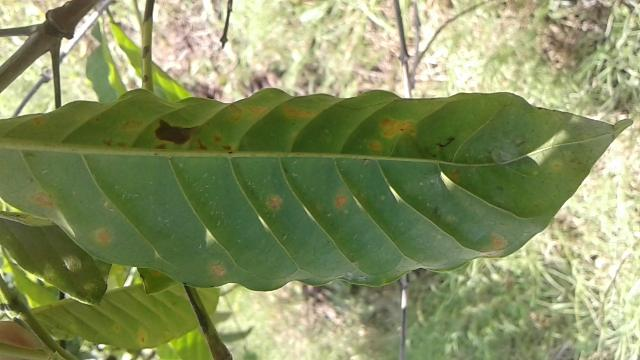rust_level_3: (0, 82, 636, 294)
